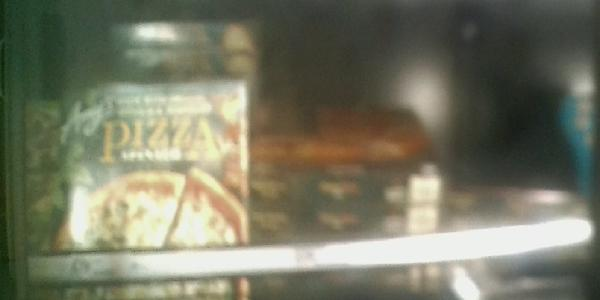pizza1: (23, 89, 252, 299)
pizza2: (253, 164, 441, 209), (73, 18, 259, 53), (251, 211, 436, 240), (66, 55, 260, 81)
